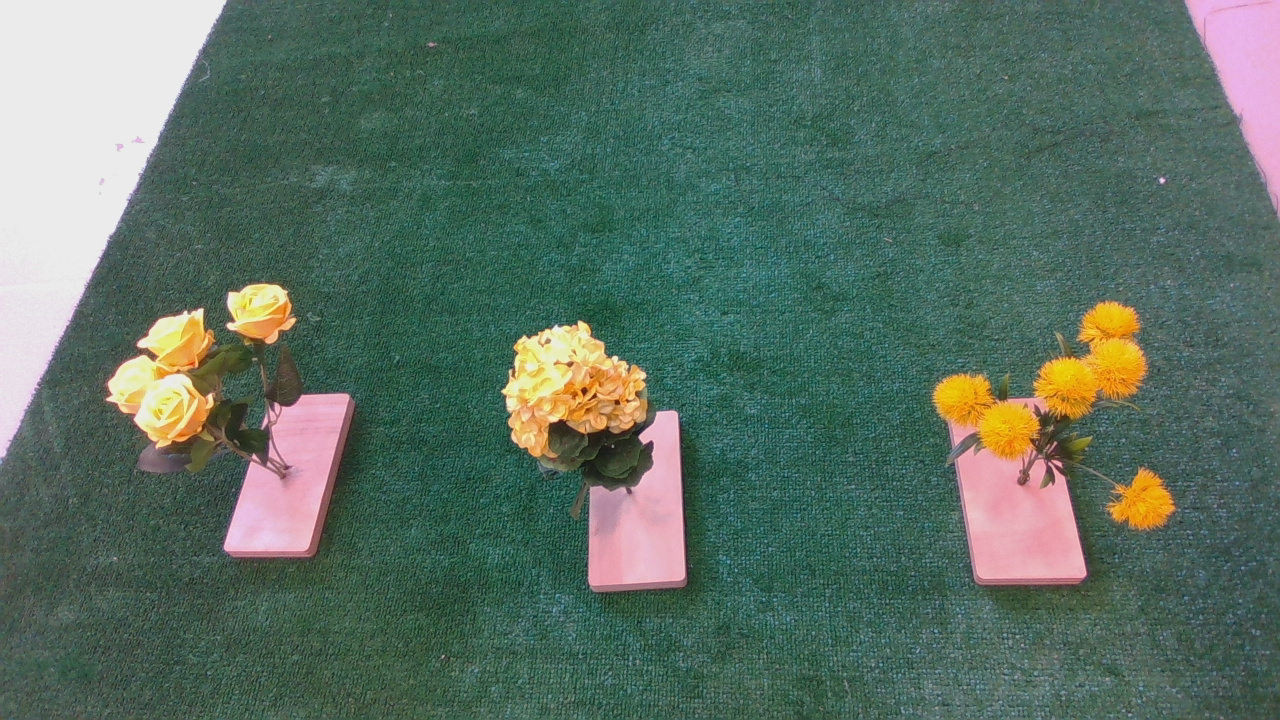dandelion: (905, 301, 1187, 537)
geranium: (499, 319, 663, 495)
rose: (102, 281, 308, 480)
